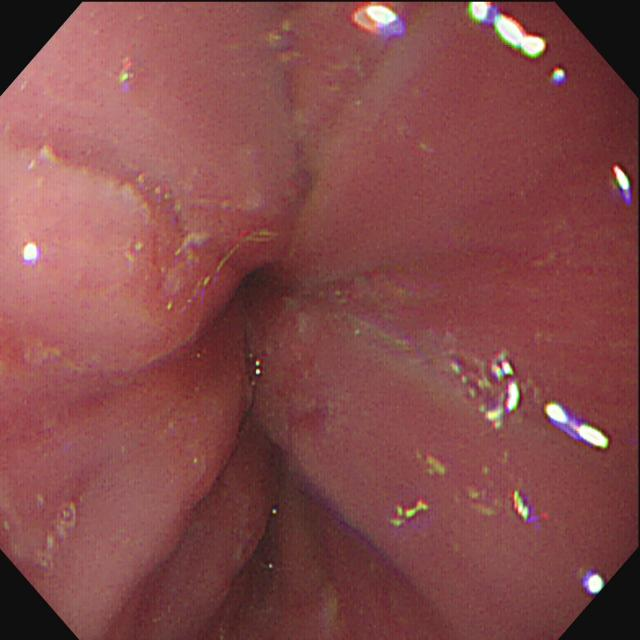U: (468, 2, 548, 61), (545, 402, 612, 452), (351, 3, 406, 37), (496, 360, 524, 413), (390, 500, 432, 529), (612, 165, 632, 205), (511, 491, 532, 523), (583, 571, 605, 595), (23, 241, 39, 263)
